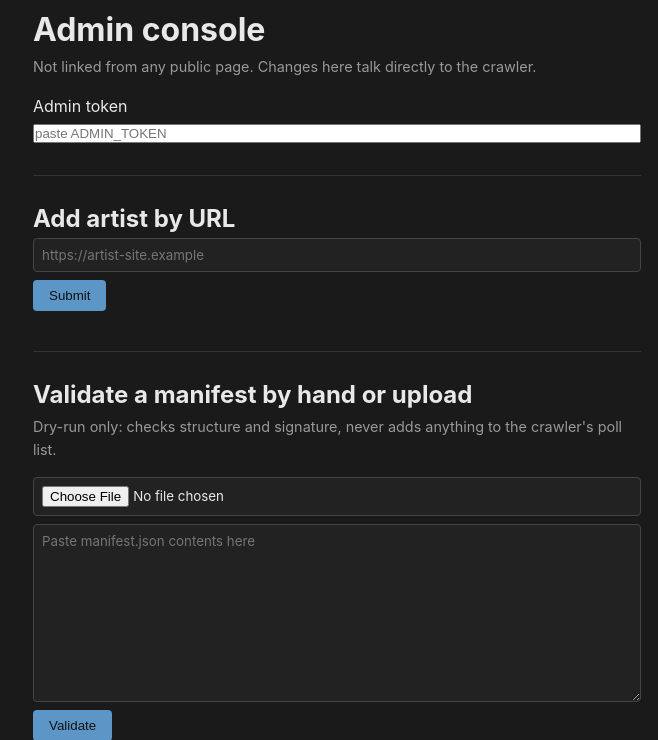
Test: AdminConsole › shows submission errors when the manifest is rejected
Type "https://bad.example" into the field named "artist url". click: (337, 255)
box: [33, 238, 641, 272]
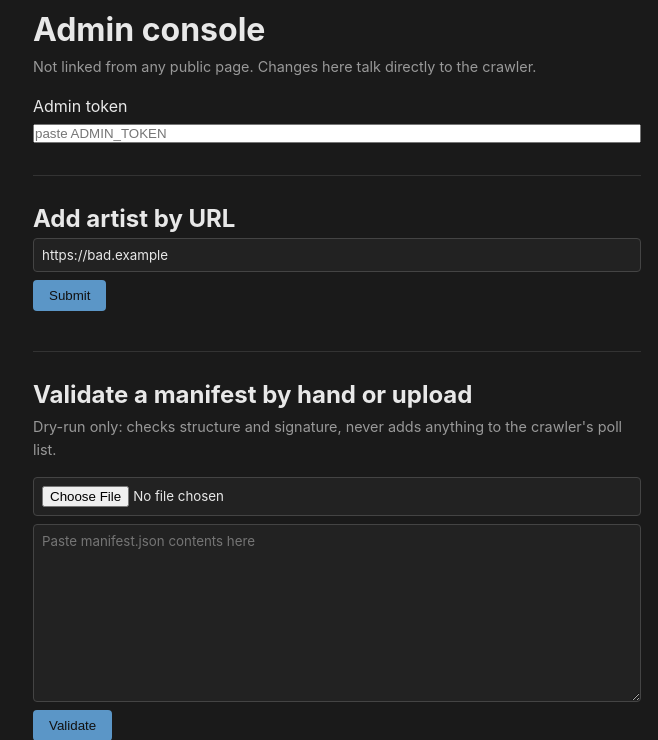
Click the button "Submit". click: (70, 296)
box: [33, 280, 106, 311]
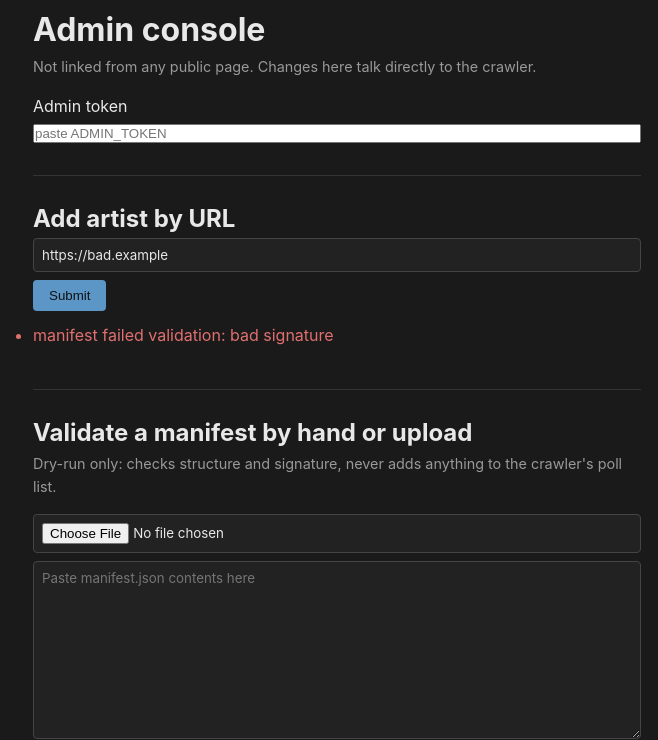
Expected: the list item "manifest failed validation: bad signature" is shown, [33, 325, 334, 345]
